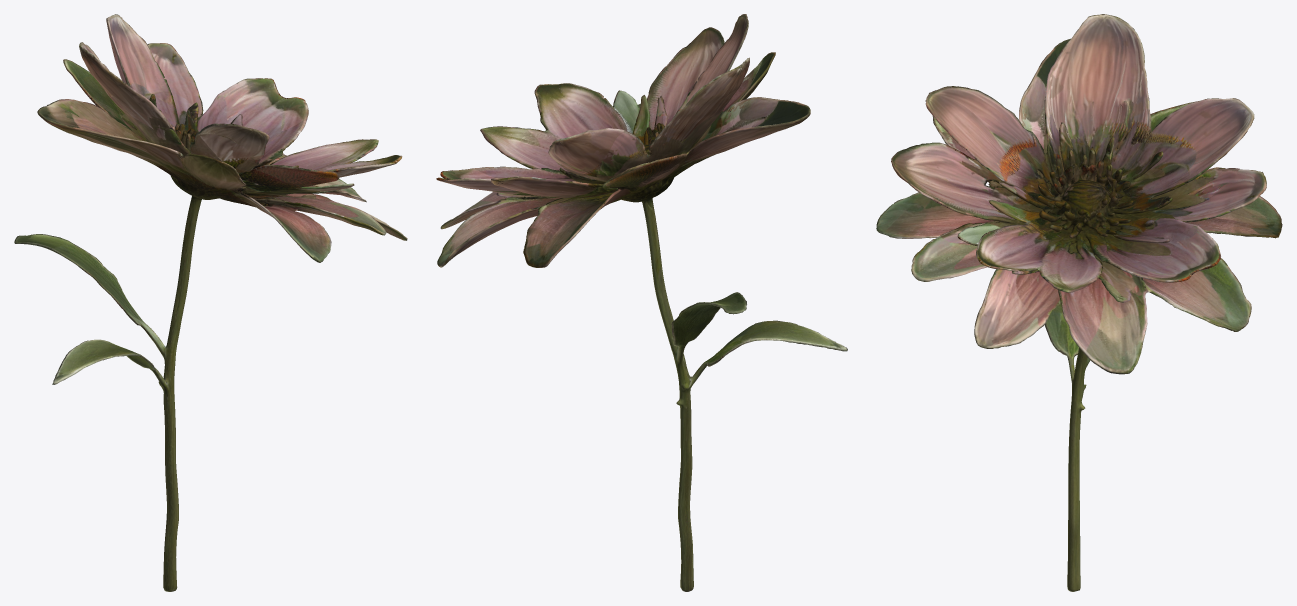
Rendered from Echinacea.glb.
The picture shows the model from 3 angles, left to right: view 1: azimuth 30°, elevation 25°; view 2: azimuth 150°, elevation 25°; view 3: azimuth 270°, elevation 25°; orthographic projection. The views are drawn at different scales.
Size of the model in its own units: 1.35 by 2 by 1.36.
Materials: 1 (1 with a texture image).
